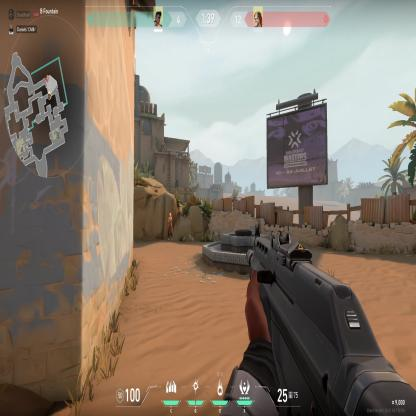enemy: (166, 208, 174, 243)
